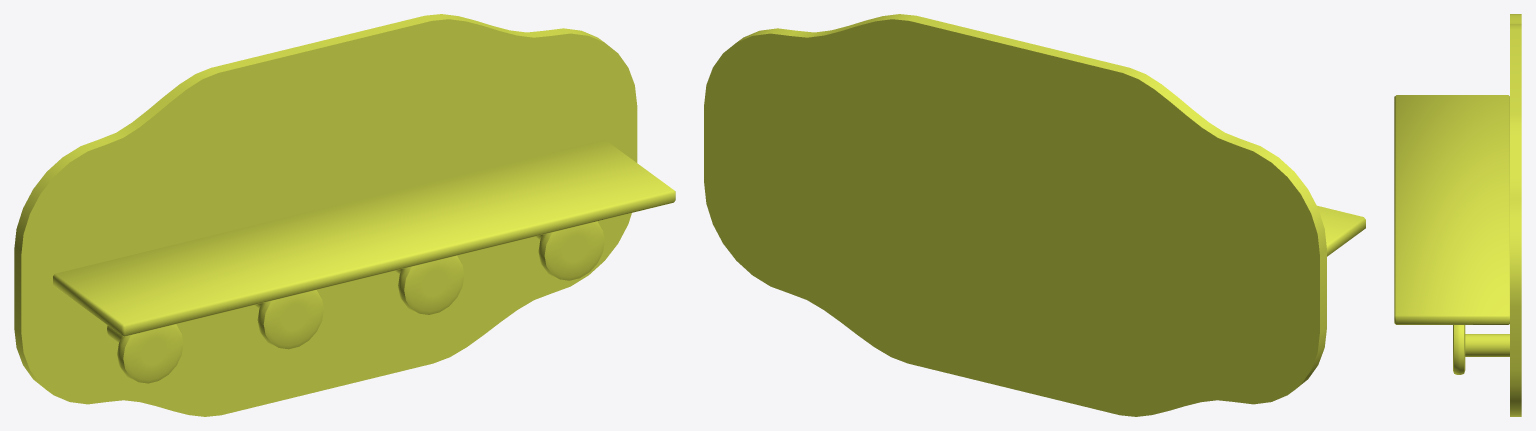
Rendered from Coat hanger.fbx.
The picture shows the model from 3 angles, left to right: view 1: azimuth 30°, elevation 25°; view 2: azimuth 150°, elevation 25°; view 3: azimuth 270°, elevation 25°; orthographic projection. The views are drawn at different scales.
Parts seen in each view (by area): view 1: Coat hanger; view 2: Coat hanger; view 3: Coat hanger.
Part boxes in pixels (x1=…): Coat hanger: x1=14, y1=14, x2=675, y2=416; Coat hanger: x1=704, y1=14, x2=1365, y2=416; Coat hanger: x1=1394, y1=14, x2=1521, y2=416.
Bounding box in the file's own units: 50 × 26.61 × 10.95.
Materials: 1 (1 with a texture image).
